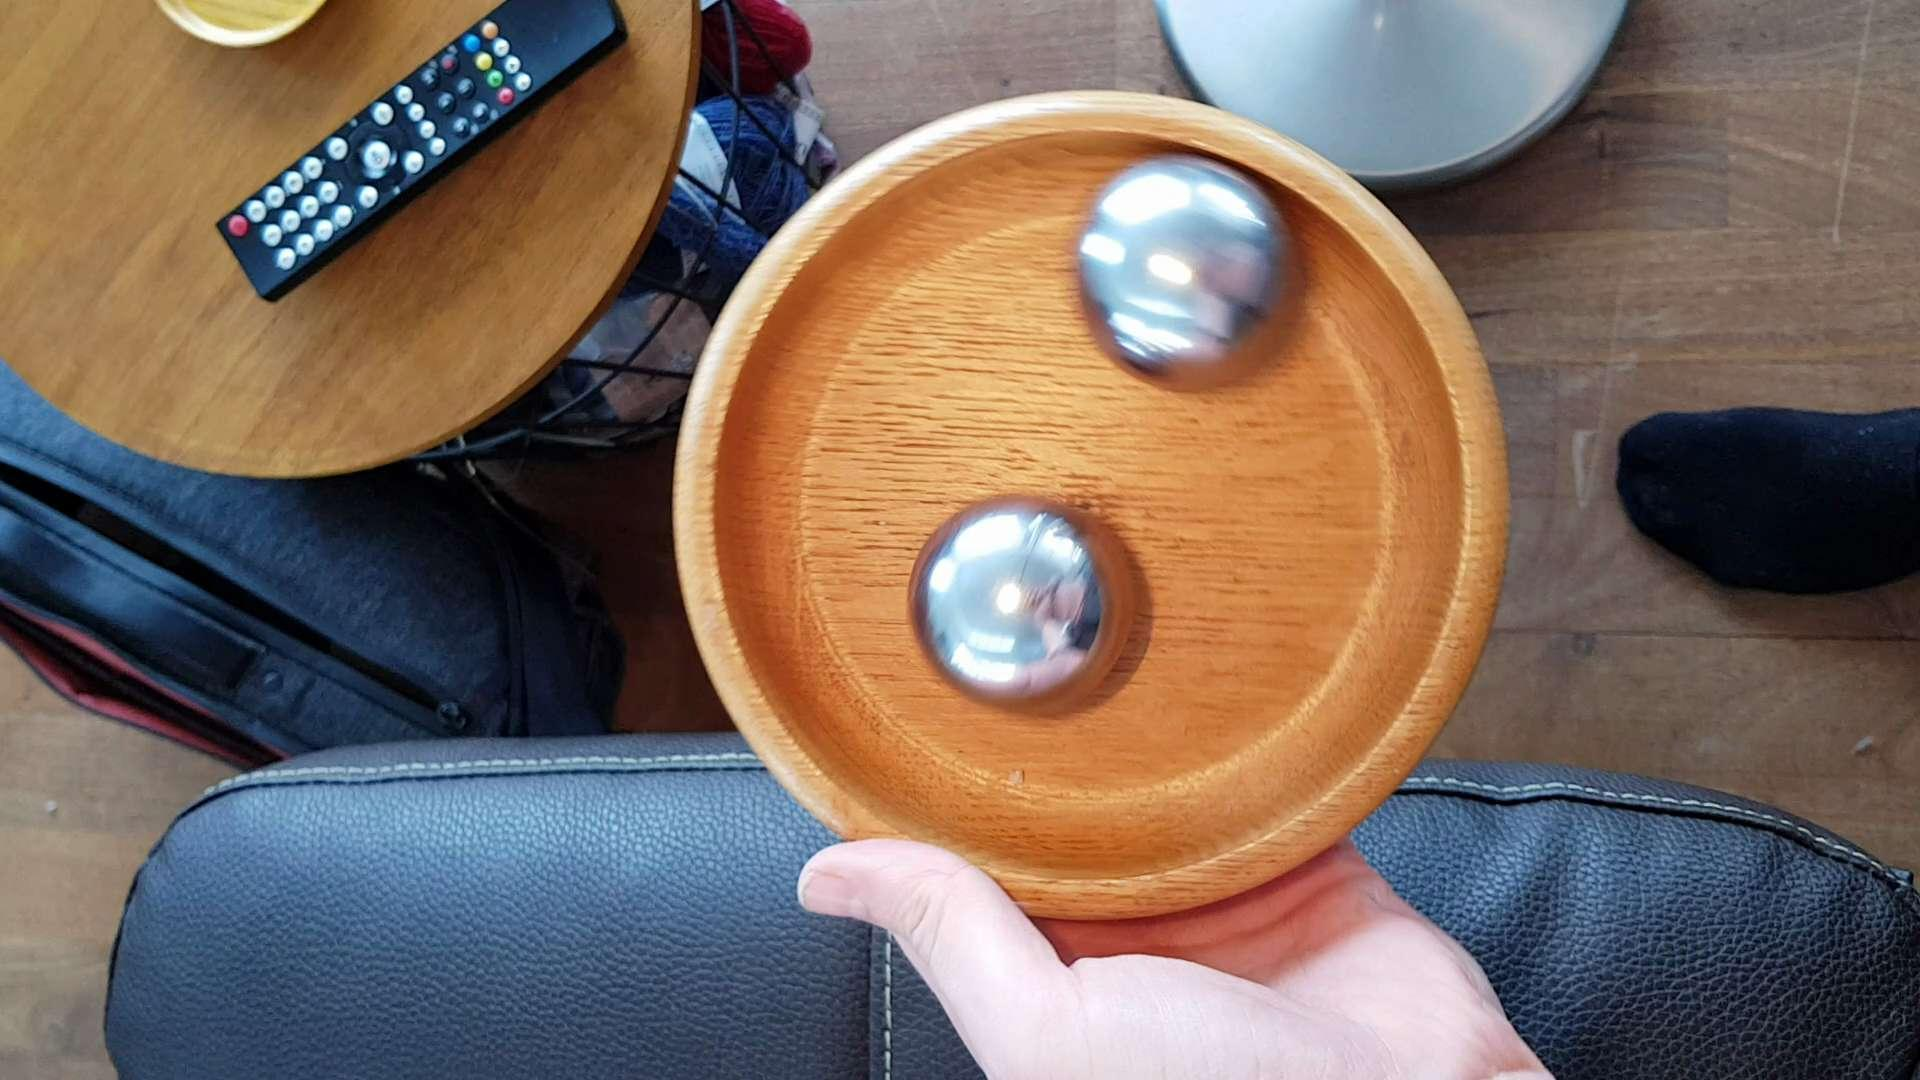sphere: (1058, 144, 1300, 404), (899, 488, 1154, 729)
